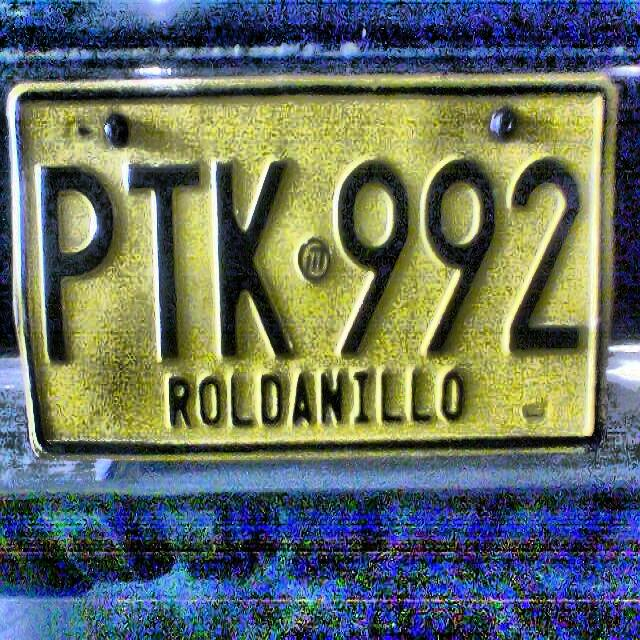plate: (4, 72, 619, 460)
